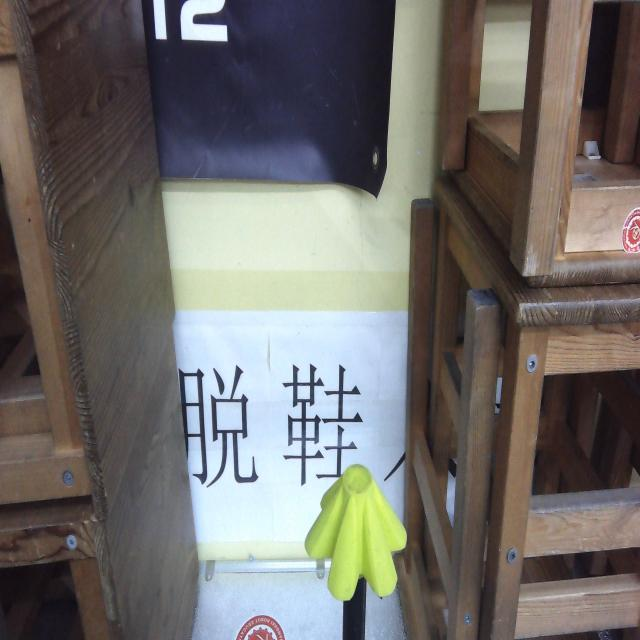Yellow-Stake-Head: (303, 463, 408, 601)
